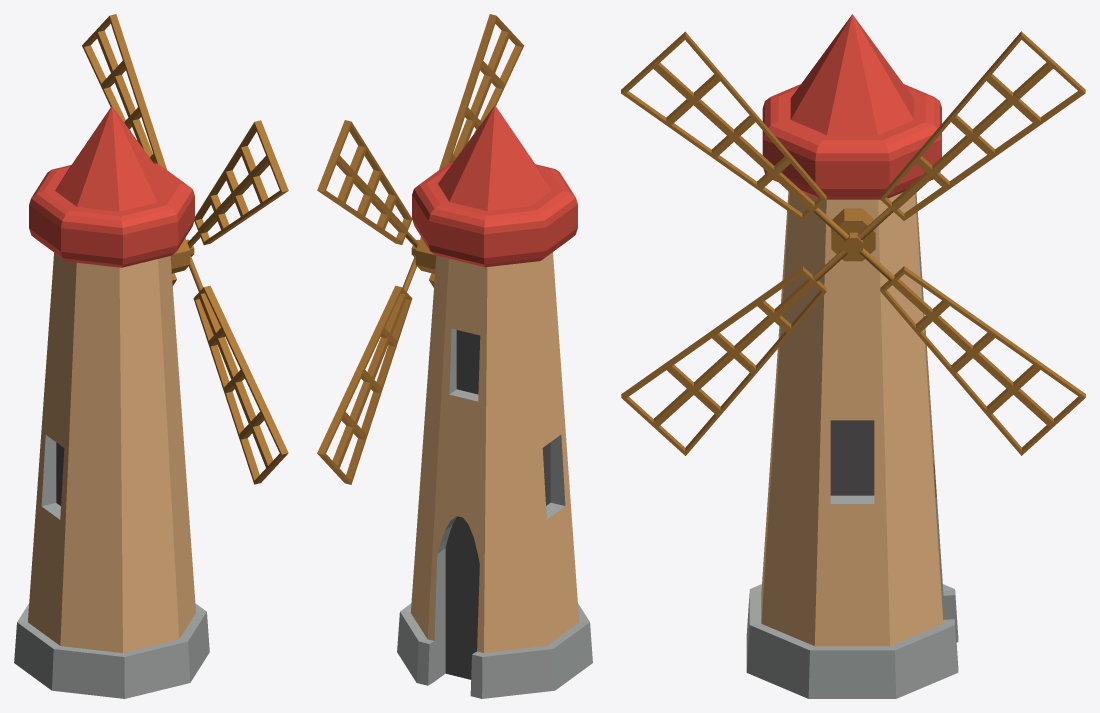
File: mill.fbx
The picture shows the model from 3 angles, left to right: view 1: azimuth 30°, elevation 25°; view 2: azimuth 150°, elevation 25°; view 3: azimuth 270°, elevation 25°; orthographic projection. The views are drawn at different scales.
Visible parts, largest first — view 1: Mill, Structure; view 2: Mill, Structure; view 3: Mill, Structure.
Boxes of the visible parts, x1,y1,x2,y2 form: Mill: (14, 106, 209, 698); Structure: (82, 14, 288, 484); Mill: (397, 105, 592, 698); Structure: (317, 14, 524, 484); Mill: (746, 14, 958, 698); Structure: (621, 31, 1085, 455).
Size of the model in its own units: 193 by 669 by 424.
